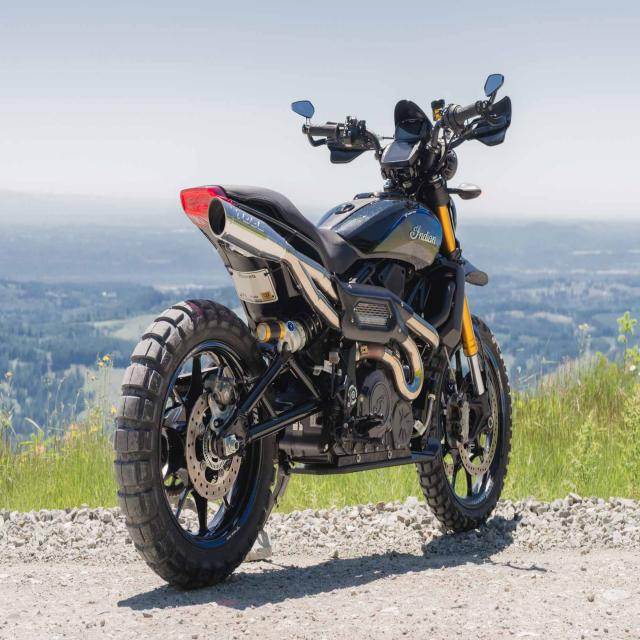motorcycle: (115, 73, 511, 588)
